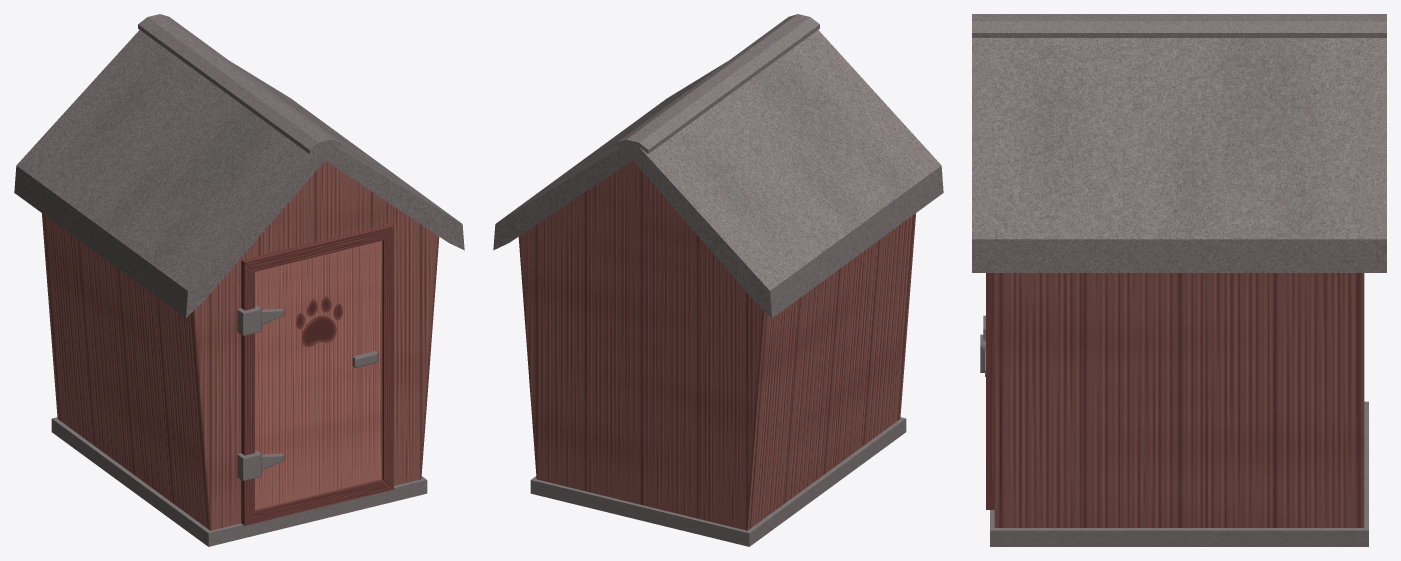
File: Outhouse.fbx
The picture shows the model from 3 angles, left to right: view 1: azimuth 30°, elevation 25°; view 2: azimuth 150°, elevation 25°; view 3: azimuth 270°, elevation 25°; orthographic projection. The views are drawn at different scales.
Visible parts, largest first — view 1: Outhouse; view 2: Outhouse; view 3: Outhouse.
Part boxes in pixels (<box>): Outhouse: <box>14,14,464,546</box>; Outhouse: <box>493,14,943,546</box>; Outhouse: <box>972,14,1386,546</box>.
Bounding box in the file's own units: 211 × 278 × 224.
